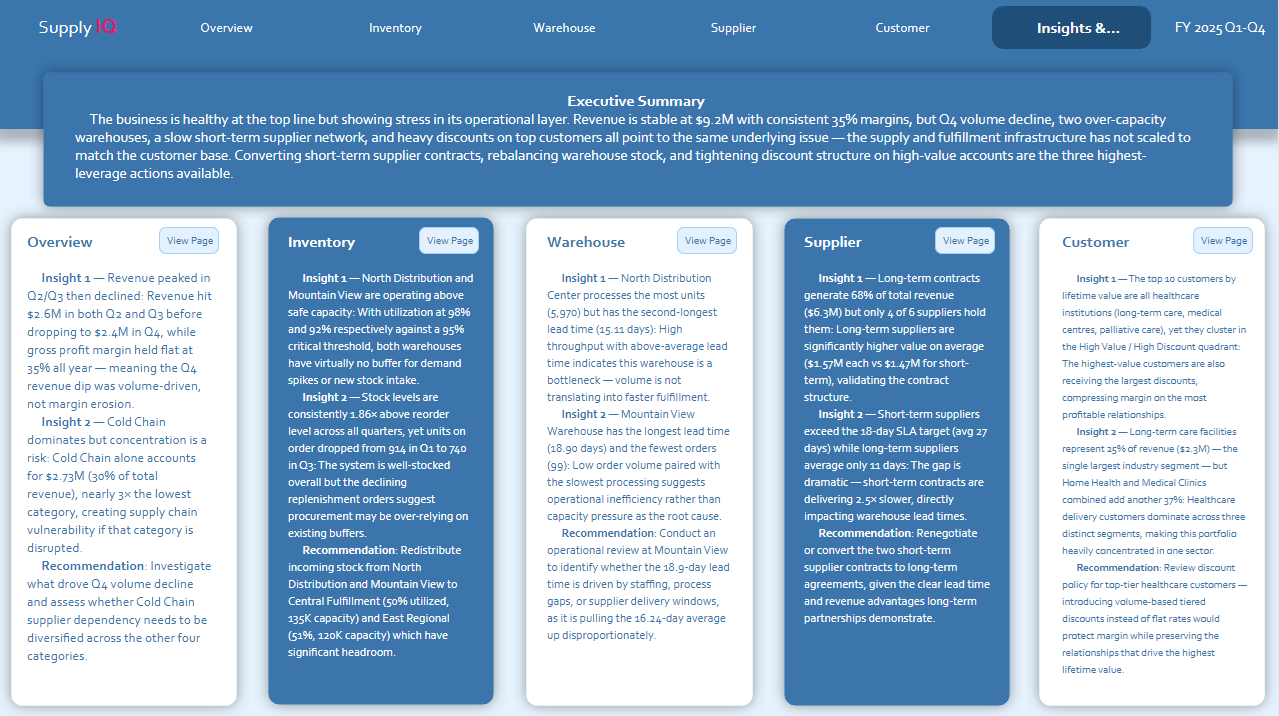

This screenshot's page, from the dashboard's own definition file:
{"tool":"powerbi","page":{"name":"Insights & Recommendations","canvas":[1280,720],"ordinal":5},"visuals":[{"type":"shape","box":[0,206.3,252.1,513.5],"z":0},{"type":"shape","box":[257,205.4,252.1,513.5],"z":1000},{"type":"pageNavigator","box":[148.6,6.9,1009.5,43.1],"z":2000,"group":"g2"},{"type":"shape","box":[515.4,206.3,252.1,513.5],"z":2000},{"type":"textbox","box":[12,9,136,41],"z":3000,"group":"g2"},{"type":"shape","box":[772.9,206.3,252.1,513.5],"z":3000},{"type":"shape","box":[0,0,1280,130],"z":4000,"group":"g1"},{"type":"shape","box":[1170.4,9,103.9,34],"z":4000,"group":"g2"},{"type":"shape","box":[1027.9,206.3,252.1,513.5],"z":4000},{"type":"group","id":"g1","title":"Group 9","box":[0,0,1280,130],"z":5000},{"type":"textbox","box":[1170,14,104,34],"z":5000,"group":"g2"},{"type":"group","id":"g2","title":"Group 1","box":[12,6.9,1262.3,43.1],"z":5002,"group":"g1"},{"type":"shape","box":[32.1,59.6,1215.8,161.4],"z":6000},{"type":"textbox","box":[72.4,87.1,1131.5,107.3],"z":7000},{"type":"textbox","box":[23.9,228,195,466],"z":8000},{"type":"textbox","box":[285,228,196,466],"z":9000},{"type":"textbox","box":[543.9,228,195,466],"z":10000},{"type":"textbox","box":[801,228,196,466],"z":11000},{"type":"textbox","box":[1059,228,195.3,466.7],"z":12000},{"type":"actionButton","box":[160.8,228.5,60,26.9],"z":13000},{"type":"actionButton","box":[1194.5,228.2,60,27.3],"z":14000},{"type":"actionButton","box":[937.3,228.2,60,27.3],"z":15000},{"type":"actionButton","box":[679.2,228.5,60,26.9],"z":16000},{"type":"actionButton","box":[420.8,228.5,60,26.9],"z":17000}]}

Visuals, with their boxes in screenshot pixels (x1, y1, x2, y2), scaled from the page's 1280x720 canvas onto the 1279x716 screenshot:
shape: (0, 205, 252, 715)
shape: (257, 204, 509, 715)
pageNavigator: (148, 7, 1157, 50)
shape: (515, 205, 767, 715)
textbox: (12, 9, 148, 50)
shape: (772, 205, 1024, 715)
shape: (0, 0, 1278, 129)
shape: (1169, 9, 1273, 43)
shape: (1027, 205, 1278, 715)
"Group 9" group: (0, 0, 1278, 129)
textbox: (1169, 14, 1273, 48)
"Group 1" group: (12, 7, 1273, 50)
shape: (32, 59, 1247, 220)
textbox: (72, 87, 1203, 193)
textbox: (24, 227, 219, 690)
textbox: (285, 227, 481, 690)
textbox: (543, 227, 738, 690)
textbox: (800, 227, 996, 690)
textbox: (1058, 227, 1253, 691)
actionButton: (161, 227, 221, 254)
actionButton: (1194, 227, 1254, 254)
actionButton: (937, 227, 997, 254)
actionButton: (679, 227, 739, 254)
actionButton: (420, 227, 480, 254)
